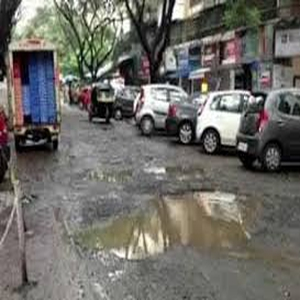pothole: (71, 193, 278, 264)
